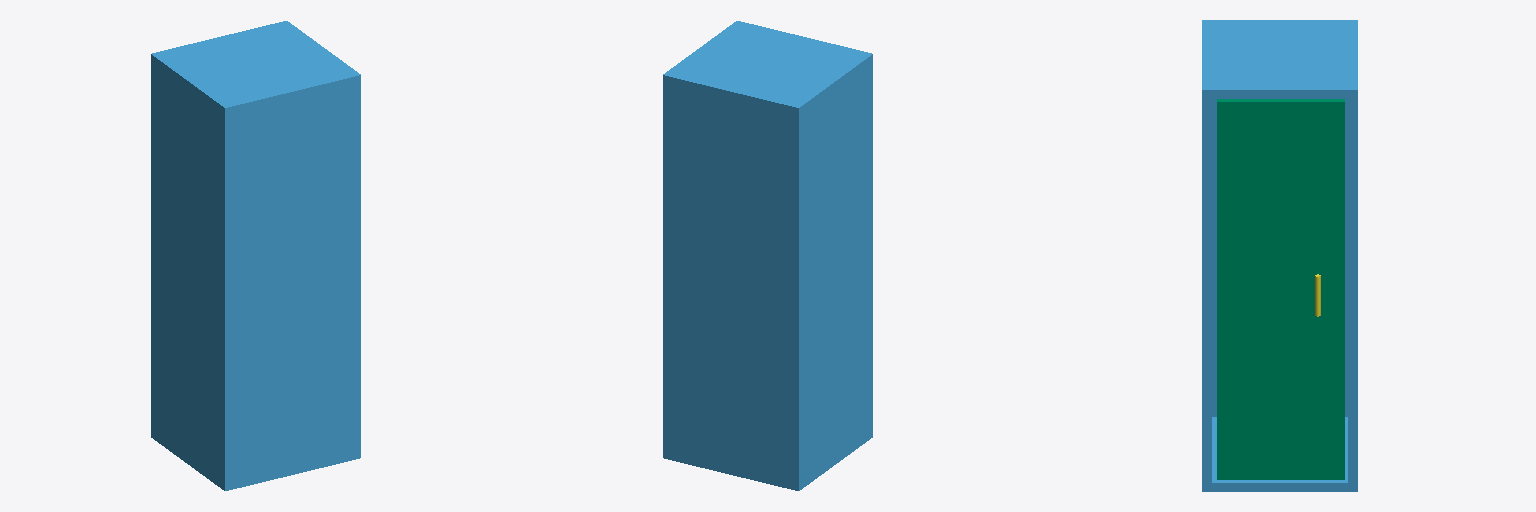
URDF robot description (my_cabinet):
<?xml version="1.0" ?>
<robot name="my_cabinet">
	<link name="world"/>
	<joint name="virtual_joint" type="fixed">
		<parent link="world"/>
		<child link="base_cabinet_link"/>
		<origin xyz="0.0 0.0 0.0" rpy="0.0 0.0 0.0"/>
	</joint>
	<link name="base_cabinet_link">
		<visual>
			<origin xyz="0.0 -0.0025 -0.39393087385990067" rpy="0.0 0.0 0.0"/>
			<geometry>
				<box size="0.3 0.28385867065944637 0.018"/>
			</geometry>
		</visual>
		<collision name="base_cabinet_link_collision_0">
			<origin xyz="0.0 -0.0025 -0.39393087385990067" rpy="0.0 0.0 0.0"/>
			<geometry>
				<box size="0.3 0.28385867065944637 0.018"/>
			</geometry>
		</collision>
		<visual>
			<origin xyz="0.0 0.1304293353297232 0.0" rpy="0.0 0.0 0.0"/>
			<geometry>
				<box size="0.3 0.018 0.8058617477198013"/>
			</geometry>
		</visual>
		<collision name="base_cabinet_link_collision_1">
			<origin xyz="0.0 0.1304293353297232 0.0" rpy="0.0 0.0 0.0"/>
			<geometry>
				<box size="0.3 0.018 0.8058617477198013"/>
			</geometry>
		</collision>
		<visual>
			<origin xyz="0.0 -0.1354293353297232 0.0" rpy="0.0 0.0 0.0"/>
			<geometry>
				<box size="0.3 0.018 0.8058617477198013"/>
			</geometry>
		</visual>
		<collision name="base_cabinet_link_collision_2">
			<origin xyz="0.0 -0.1354293353297232 0.0" rpy="0.0 0.0 0.0"/>
			<geometry>
				<box size="0.3 0.018 0.8058617477198013"/>
			</geometry>
		</collision>
		<visual>
			<origin xyz="0.0 -0.0025 0.39393087385990067" rpy="0.0 0.0 0.0"/>
			<geometry>
				<box size="0.3 0.2838586706594464 0.018"/>
			</geometry>
		</visual>
		<collision name="base_cabinet_link_collision_3">
			<origin xyz="0.0 -0.0025 0.39393087385990067" rpy="0.0 0.0 0.0"/>
			<geometry>
				<box size="0.3 0.2838586706594464 0.018"/>
			</geometry>
		</collision>
		<visual>
			<origin xyz="-0.141 -0.0025 0.0" rpy="0.0 0.0 0.0"/>
			<geometry>
				<box size="0.018 0.2838586706594464 0.8058617477198013"/>
			</geometry>
		</visual>
		<collision name="base_cabinet_link_collision_4">
			<origin xyz="-0.141 -0.0025 0.0" rpy="0.0 0.0 0.0"/>
			<geometry>
				<box size="0.018 0.2838586706594464 0.8058617477198013"/>
			</geometry>
		</collision>
		<inertial>
			<mass value="0.200000"/>
			<inertia ixx="0.012166" ixy="0.0" ixz="0.0" iyy="0.012324" iyz="0.0" izz="0.002843"/>
		</inertial>
	</link>
	<link name="door_link">
		<visual>
			<origin xyz="0.0 -0.1164293353297232 0.0"/>
			<geometry>
				<box size="0.018 0.2328586706594464 0.7598617477198013"/>
			</geometry>
		</visual>
		<collision name="door_link_collision">
			<origin xyz="0.0 -0.1164293353297232 0.0"/>
			<geometry>
				<box size="0.018 0.2328586706594464 0.7598617477198013"/>
			</geometry>
		</collision>
		<inertial>
			<mass value="0.200000"/>
			<inertia ixx="0.010527" ixy="0.0" ixz="0.0" iyy="0.009629" iyz="0.0" izz="0.000909"/>
		</inertial>
	</link>
	<joint name="door_joint" type="revolute">
		<origin xyz="0.141 -0.1164293353297232 0.0" rpy="0.000000 -0.000000 3.141593"/>
		<axis xyz="0 0 1"/>
		<parent link="base_cabinet_link"/>
		<child link="door_link"/>
		<limit effort="50" lower="-1.658062789394613" upper="0" velocity="10"/>
		<dynamics friction="3.5" damping="3.5"/>
	</joint>
	<link name="handle_link">
		<visual>
			<origin xyz="0.0 0.0 0.0" rpy="0.0 0.0 0.0"/>
			<geometry>
				<cylinder length="0.08" radius="0.005"/>
			</geometry>
		</visual>
		<collision name="handle_link_collision_0">
			<origin xyz="0.0 0.0 0.0" rpy="0.0 0.0 0.0"/>
			<geometry>
				<cylinder length="0.08" radius="0.005"/>
			</geometry>
		</collision>
		<visual>
			<origin xyz="-0.01 0.0 0.02" rpy="0.0 1.5707963267948966 0.0"/>
			<geometry>
				<cylinder length="0.02" radius="0.003"/>
			</geometry>
		</visual>
		<collision name="handle_link_collision_1">
			<origin xyz="-0.01 0.0 0.02" rpy="0.0 1.5707963267948966 0.0"/>
			<geometry>
				<cylinder length="0.01" radius="0.003"/>
			</geometry>
		</collision>
		<visual>
			<origin xyz="-0.01 0.0 -0.02" rpy="0.0 1.5707963267948966 0.0"/>
			<geometry>
				<cylinder length="0.02" radius="0.003"/>
			</geometry>
		</visual>
		<collision name="handle_link_collision_2">
			<origin xyz="-0.01 0.0 -0.02" rpy="0.0 1.5707963267948966 0.0"/>
			<geometry>
				<cylinder length="0.02" radius="0.003"/>
			</geometry>
		</collision>
		<inertial>
			<mass value="0.050000"/>
			<inertia ixx="0.000027" ixy="0.0" ixz="0.0" iyy="0.000029" iyz="0.0" izz="0.000003"/>
		</inertial>
	</link>
	<joint name="handle_joint" type="fixed">
		<origin xyz="-0.028999999999999998 -0.1828586706594464 0.0" rpy="0.000000 -0.000000 3.141593"/>
		<parent link="door_link"/>
		<child link="handle_link"/>
	</joint>
	<gazebo reference="base_cabinet_link">
		<sensor name="main_sensor" type="contact">
			<selfCollide>true</selfCollide>
			<alwaysOn>true</alwaysOn>
			<updateRate>5.0</updateRate>
			<material>Gazebo/Red</material>
			<contact>
				<collision>base_cabinet_link_collision_0_collision</collision>
				<collision>base_cabinet_link_collision_1_collision</collision>
				<collision>base_cabinet_link_collision_2_collision</collision>
				<collision>base_cabinet_link_collision_3_collision</collision>
				<collision>base_cabinet_link_collision_4_collision</collision>
			</contact>
			<plugin name="gazebo_ros_bumper_controller" filename="libgazebo_ros_bumper.so">
				<bumperTopicName>/contact</bumperTopicName>
				<frameName>world</frameName>
			</plugin>
		</sensor>
	</gazebo>
	<gazebo reference="door_link">
		<sensor name="main_sensor" type="contact">
			<selfCollide>true</selfCollide>
			<alwaysOn>true</alwaysOn>
			<updateRate>5.0</updateRate>
			<material>Gazebo/Red</material>
			<contact>
				<collision>door_link_collision_collision</collision>
			</contact>
			<plugin name="gazebo_ros_bumper_controller" filename="libgazebo_ros_bumper.so">
				<bumperTopicName>/contact_door</bumperTopicName>
				<frameName>contact_door</frameName>
			</plugin>
		</sensor>
	</gazebo>
	<gazebo reference="door_link">
		<mu>3.0</mu>
		<mu2>3.0</mu2>
		<kp>10000000</kp>
		<kd>100</kd>
	</gazebo>
</robot>

--- Facts derived from the render (not from the file) ---
Views: 3 orthographic renders of the robot side by side, from view 1: azimuth 30°, elevation 25°; view 2: azimuth 150°, elevation 25°; view 3: azimuth 270°, elevation 25°.
Model my_cabinet with 4 links and 3 joints (1 revolute, 2 fixed), rooted at world, posed all joints at 0.
Links seen in each view (by area): view 1: base_cabinet_link; view 2: base_cabinet_link; view 3: door_link, base_cabinet_link.
Link boxes in pixels (left/top/right/bottom): base_cabinet_link: left=151, top=21, right=360, bottom=490; base_cabinet_link: left=663, top=21, right=872, bottom=490; door_link: left=1217, top=99, right=1344, bottom=479; base_cabinet_link: left=1202, top=20, right=1357, bottom=491.
Size in the robot's own frame: 0.325 by 0.2839 by 0.8059 metres.
Geometry: primitives only (box / cylinder / sphere), no mesh files.
